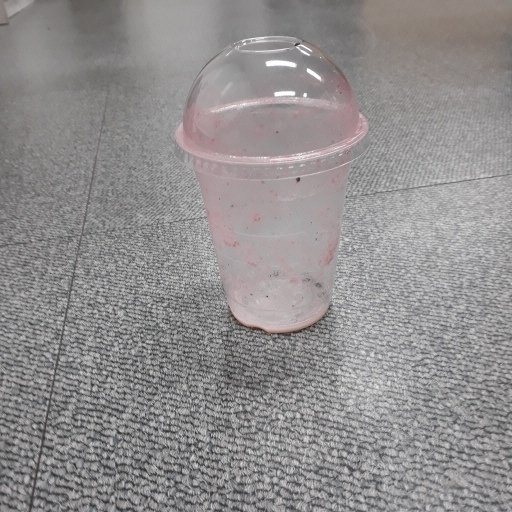Plastic_2: (169, 33, 368, 332)
